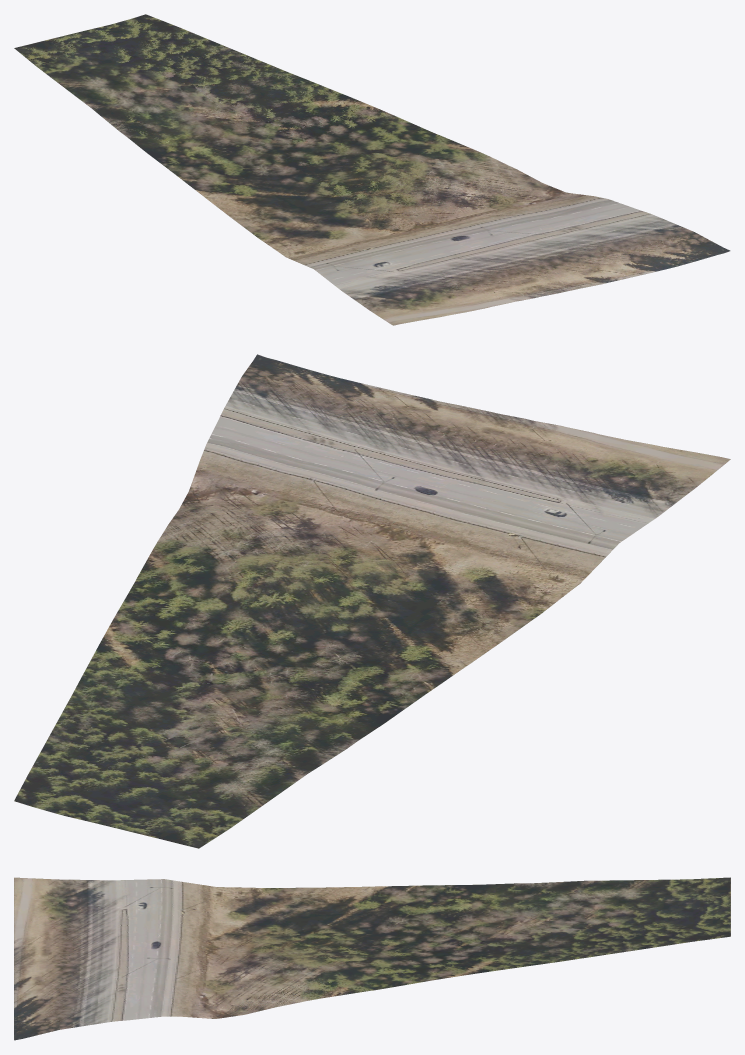
Rendered from CM_Terrain_24491278_6821841.fbx.
3 views of the same model, one above another, from view 1: azimuth 30°, elevation 25°; view 2: azimuth 150°, elevation 25°; view 3: azimuth 270°, elevation 25° (orthographic). The views are drawn at different scales.
Visible parts, largest first — view 1: CM_Terrain_24491278_6821841_LOD0; view 2: CM_Terrain_24491278_6821841_LOD0; view 3: CM_Terrain_24491278_6821841_LOD0.
Boxes of the visible parts, x1,y1,x2,y2 form: CM_Terrain_24491278_6821841_LOD0: (14, 14, 730, 325); CM_Terrain_24491278_6821841_LOD0: (14, 354, 730, 848); CM_Terrain_24491278_6821841_LOD0: (14, 877, 730, 1040).
Size of what is drawn, in the model's own units: 105 by 4.45 by 205.
